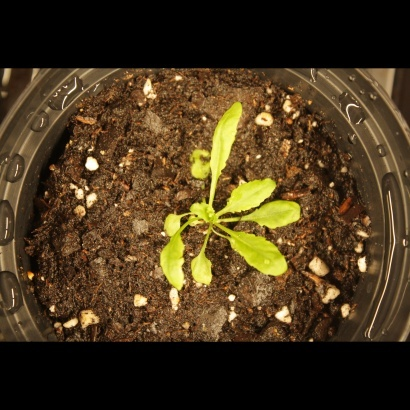leaf: (224, 227, 291, 279), (206, 100, 245, 180), (217, 176, 276, 216), (157, 229, 186, 292), (251, 196, 303, 228), (188, 246, 220, 289), (180, 146, 215, 181), (189, 193, 219, 228), (159, 211, 188, 235)
